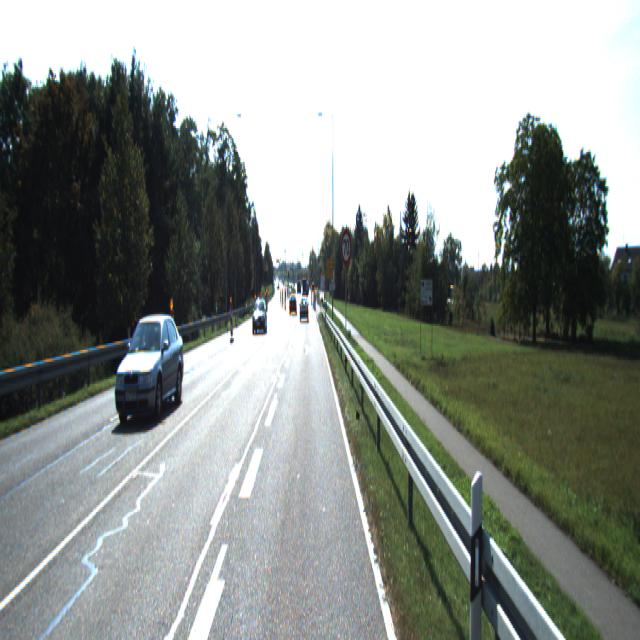Car: (112, 309, 186, 432), (252, 299, 267, 336), (300, 300, 309, 324)
